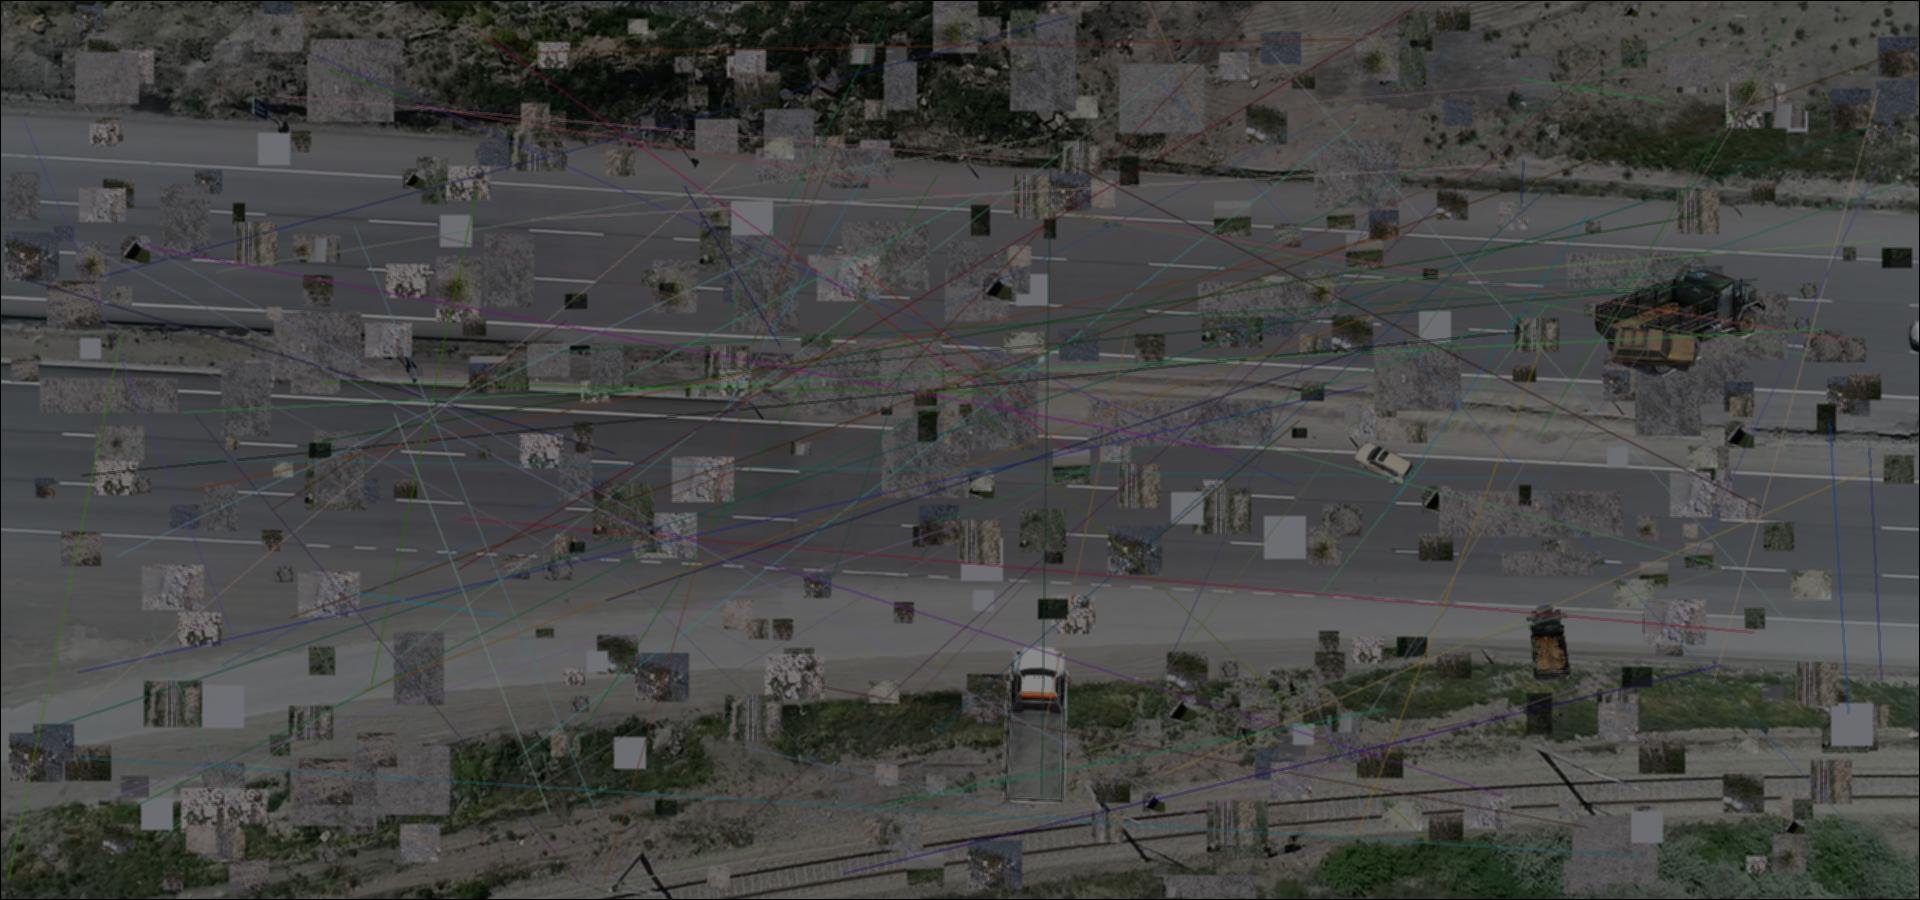arac: (1589, 264, 1764, 376), (1003, 647, 1073, 803), (1610, 324, 1700, 372), (1524, 602, 1573, 682), (1352, 440, 1414, 485)
